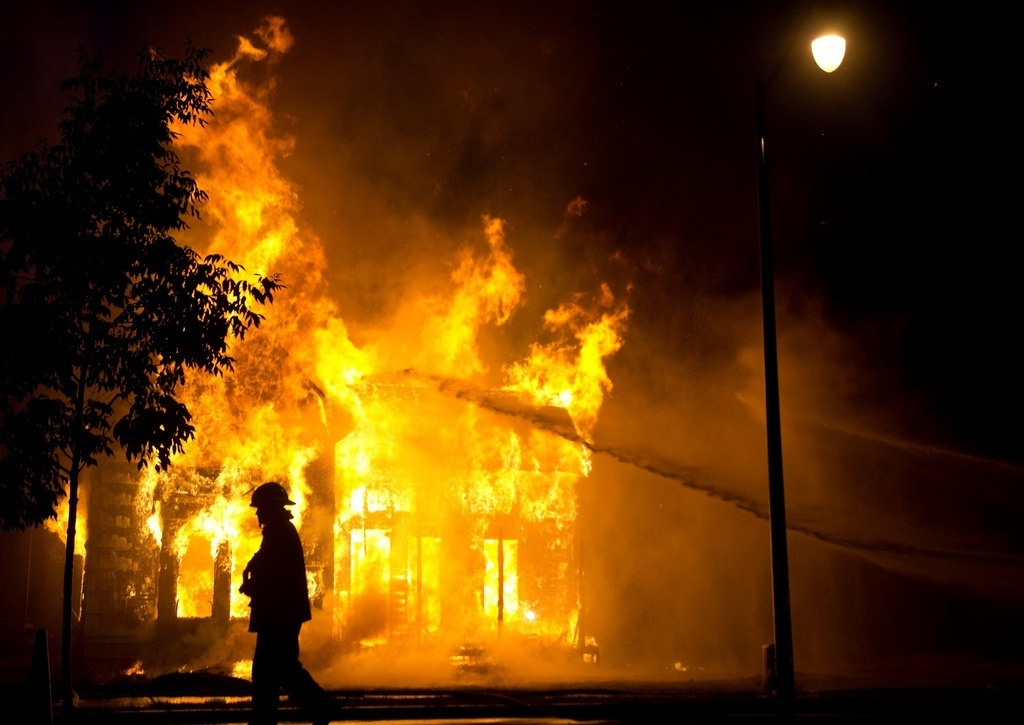fire: (28, 36, 668, 661)
